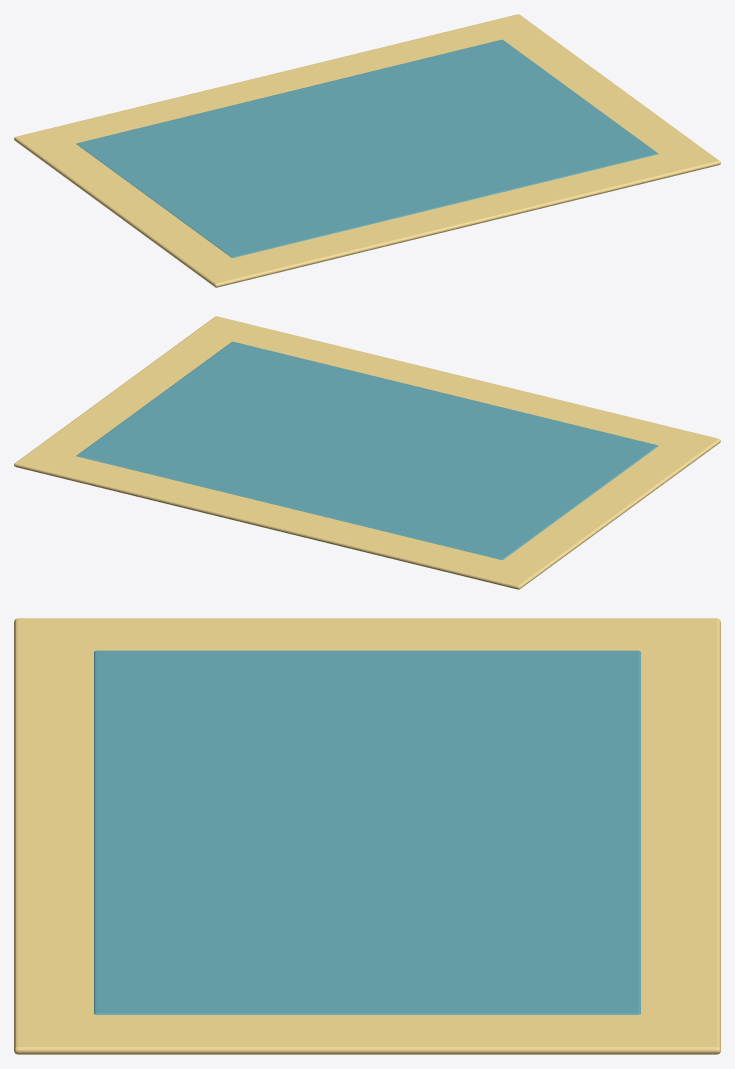
File: Rug.fbx
3 renders of one model, top to bottom at view 1: azimuth 30°, elevation 25°; view 2: azimuth 150°, elevation 25°; view 3: azimuth 270°, elevation 25°, orthographic. The views are drawn at different scales.
Visible parts, largest first — view 1: Rug; view 2: Rug; view 3: Rug.
Boxes of the visible parts, x1,y1,x2,y2 form: Rug: (14,14,720,287); Rug: (14,316,720,589); Rug: (14,618,720,1054).
Bounding box in the file's own units: 2.6 × 0.0225 × 1.8.
